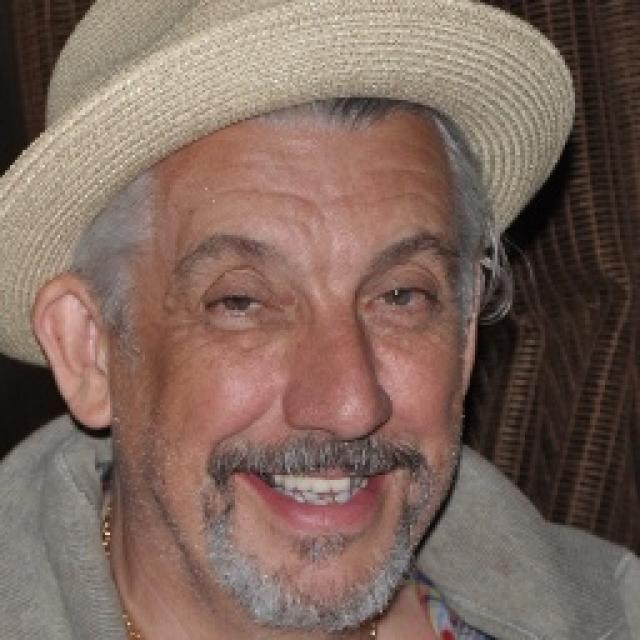earlobe: (30, 273, 116, 430)
